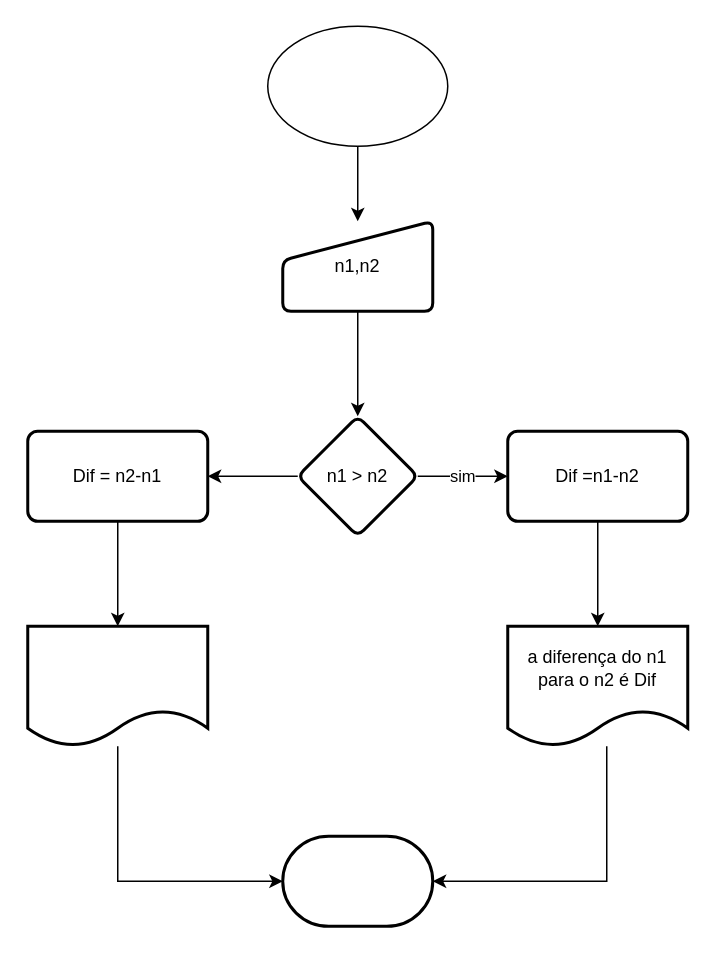
Image size: 714x954. Some labels were removed from this diagram. The shapes that lost their labels are listed below. From the top down, each one's box as (x1, y1, x2, y2) in pixels, then its label:
(266, 25, 448, 146): INICIO
(26, 624, 208, 747): A diferença do n2 para o n1 é Dif
(280, 834, 434, 927): fim
